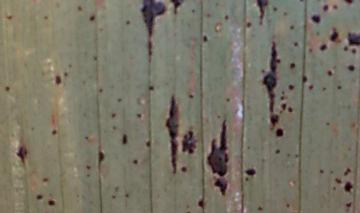tarspot: (204, 118, 233, 197), (259, 40, 280, 130), (165, 90, 180, 174), (140, 1, 166, 38), (180, 126, 197, 158), (252, 1, 271, 25), (15, 144, 30, 165), (344, 28, 360, 45), (241, 164, 261, 176), (169, 1, 186, 15), (146, 37, 154, 65), (309, 11, 323, 26), (119, 131, 132, 147), (96, 148, 106, 168), (196, 196, 209, 211), (52, 71, 64, 87), (271, 128, 287, 140), (327, 26, 339, 42), (45, 197, 59, 209), (2, 82, 14, 95), (286, 59, 298, 72), (89, 52, 101, 65), (129, 156, 143, 167), (143, 137, 154, 151), (272, 144, 283, 158), (343, 180, 354, 194), (318, 42, 330, 54), (48, 127, 61, 138), (133, 109, 146, 120), (300, 72, 309, 87), (320, 3, 331, 15), (39, 175, 51, 186), (325, 67, 336, 79), (180, 163, 190, 176), (200, 31, 209, 45), (287, 21, 298, 32), (94, 84, 105, 95), (282, 200, 293, 211), (33, 191, 45, 201), (87, 13, 99, 23), (286, 81, 296, 93), (345, 62, 357, 72), (344, 198, 354, 210), (186, 90, 196, 102), (342, 165, 352, 177), (333, 175, 343, 186), (291, 38, 301, 49), (334, 82, 344, 93), (222, 93, 232, 104), (323, 119, 333, 130), (121, 191, 133, 200), (5, 12, 15, 22), (108, 111, 119, 120), (271, 3, 280, 14), (123, 16, 132, 27), (315, 166, 326, 175), (82, 132, 91, 143), (147, 83, 156, 93), (341, 44, 350, 54), (221, 13, 231, 22), (255, 203, 264, 213), (83, 162, 93, 171), (75, 3, 85, 12), (279, 101, 287, 112), (305, 46, 316, 54), (287, 104, 294, 116), (109, 193, 119, 201), (320, 84, 328, 94), (349, 47, 357, 56), (115, 96, 123, 105), (243, 175, 251, 184), (341, 1, 355, 6)
